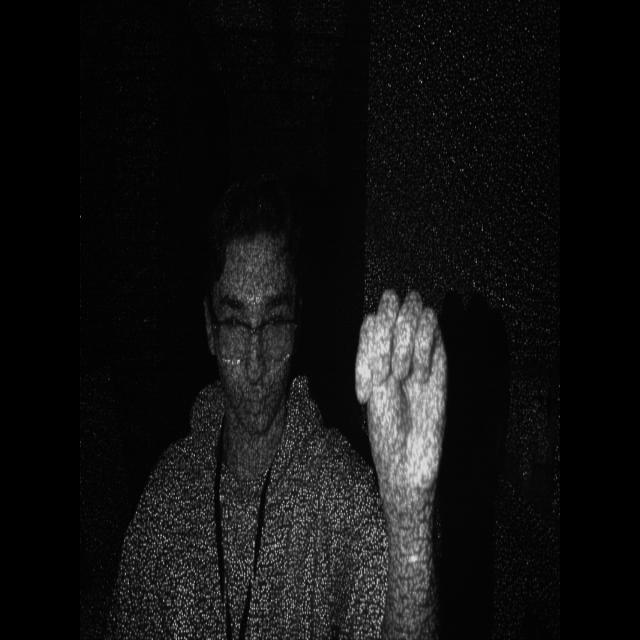M: (349, 276, 456, 504)
